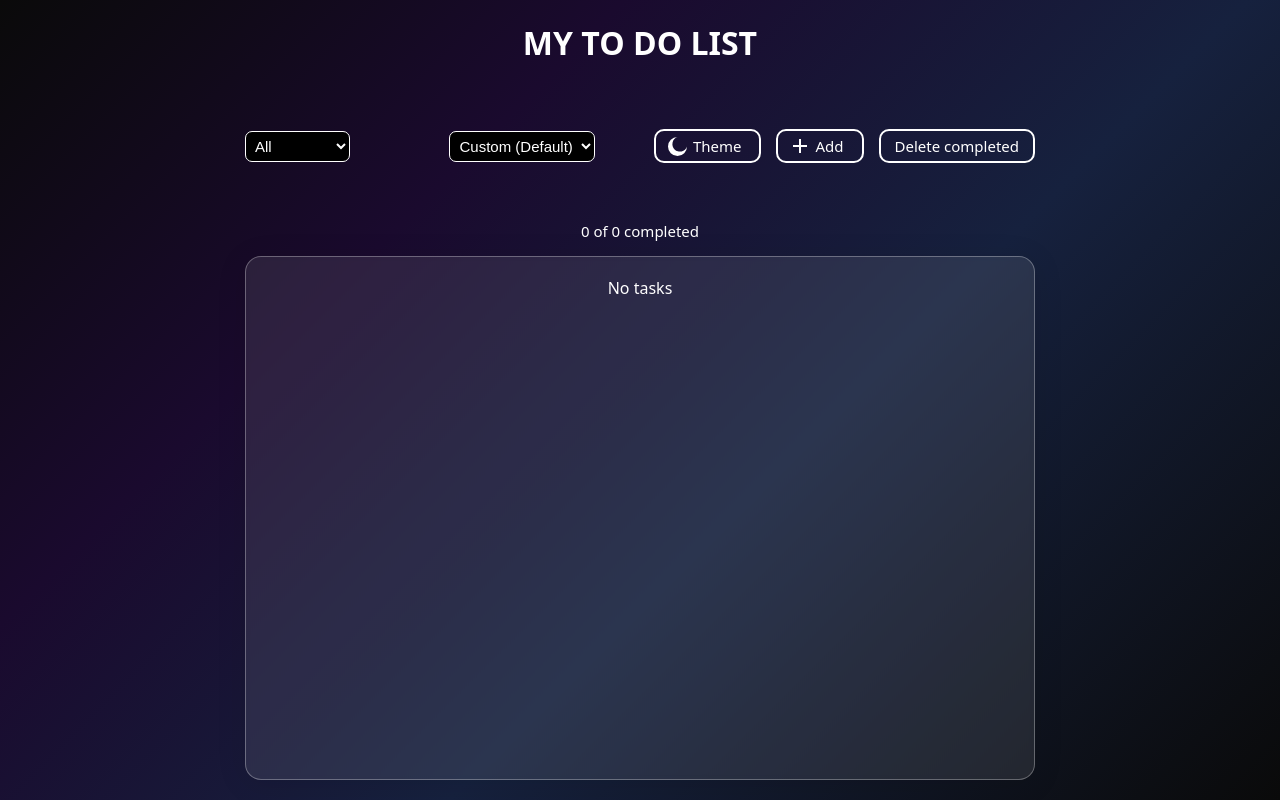
Scenario: Todo app full flow integration › Given an empty app When user creates and completes a task Then filters and counter reflect full flow
Check: the text "No tasks" is shown, box [608, 277, 672, 299]
Click the button "Add" at coordinates (820, 146), box [776, 129, 864, 163]
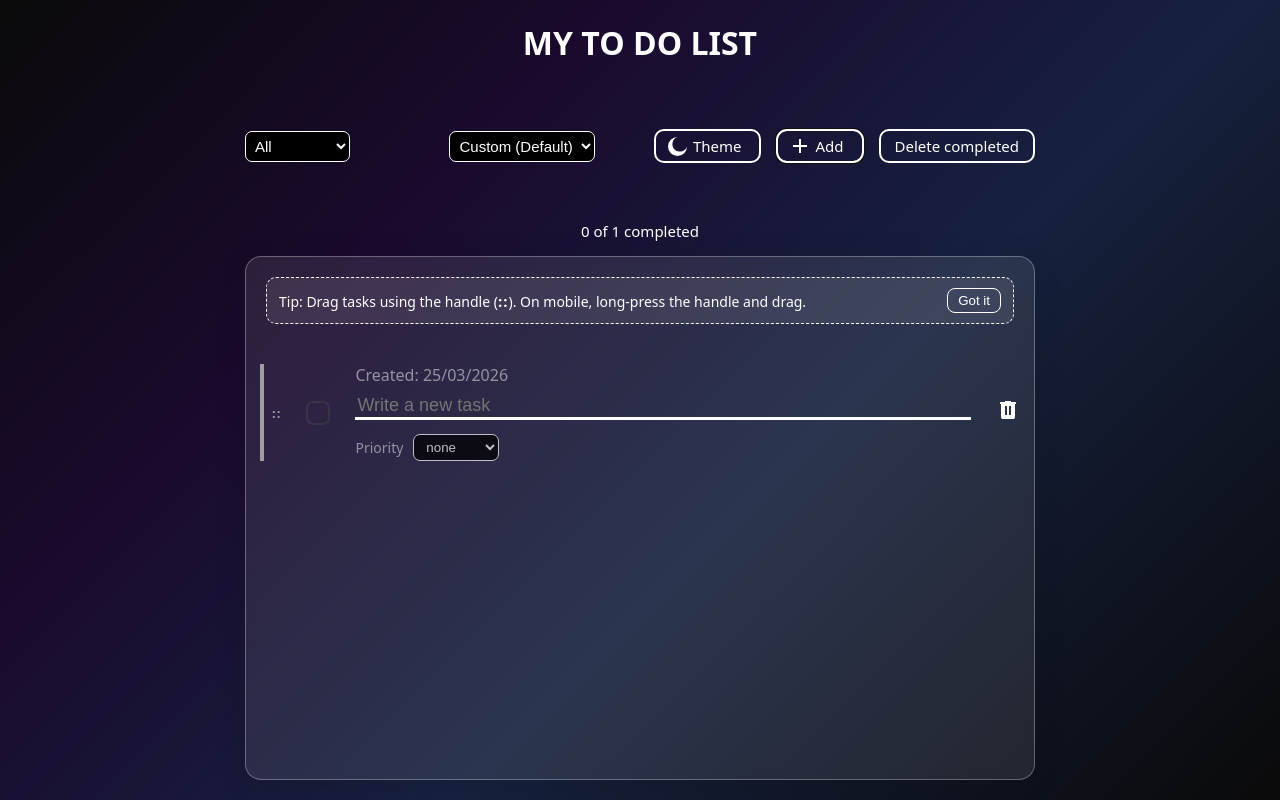
Type "Ship portfolio todo app" into the field with placeholder "Write a new task" at coordinates (663, 407), box [355, 394, 971, 420]
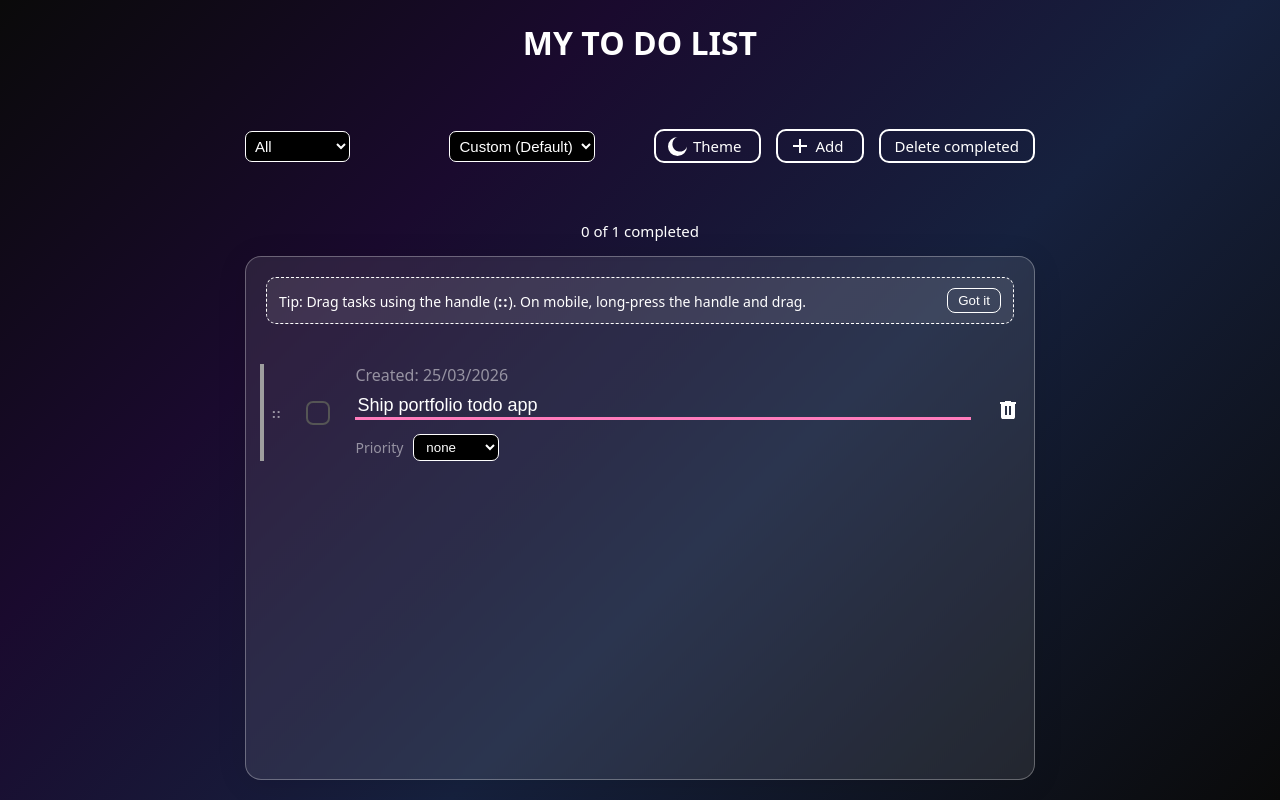
Click the checkbox named "Toggle completion for task: Ship portfolio todo app" at coordinates (318, 413), box [306, 401, 330, 425]
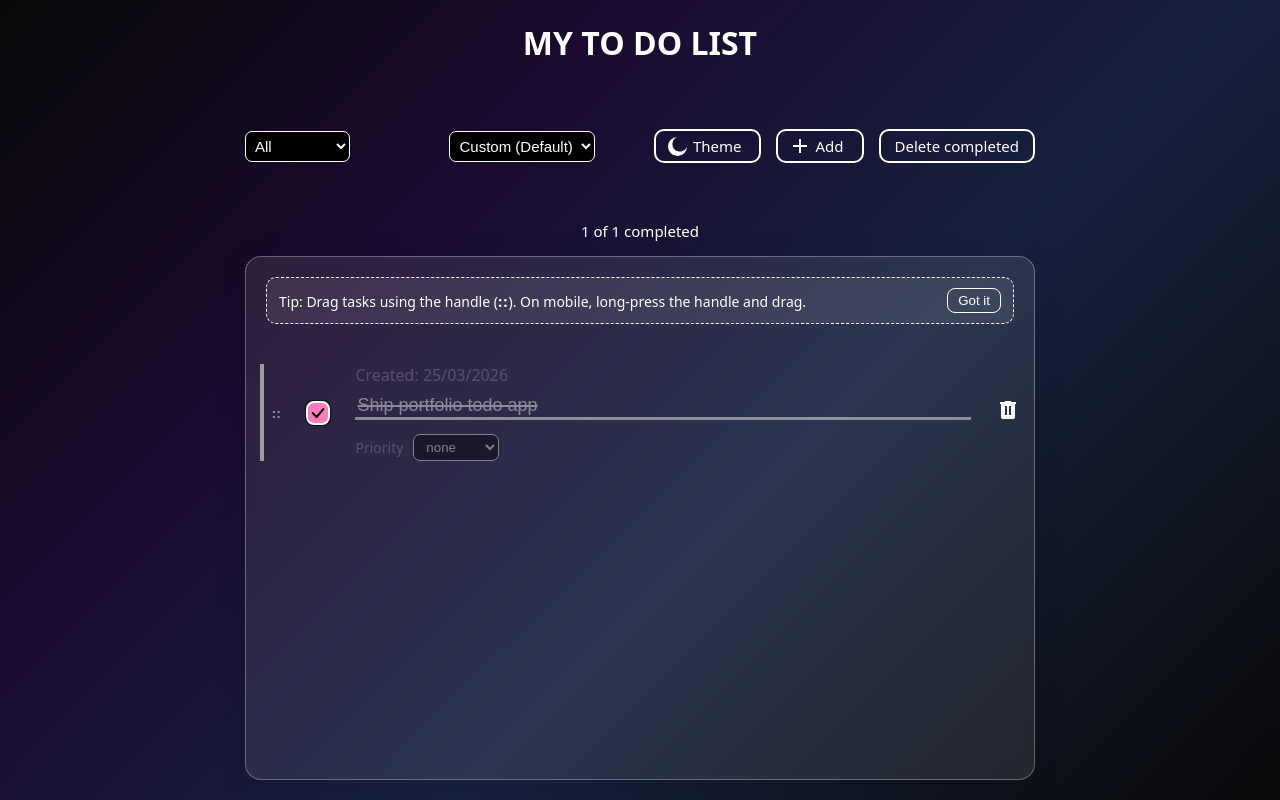
Check: the text "1 of 1 completed" is shown, box [581, 221, 699, 241]
Select "Pending" in the dropdown named "Filter tasks" at coordinates (298, 146), box [245, 131, 350, 162]
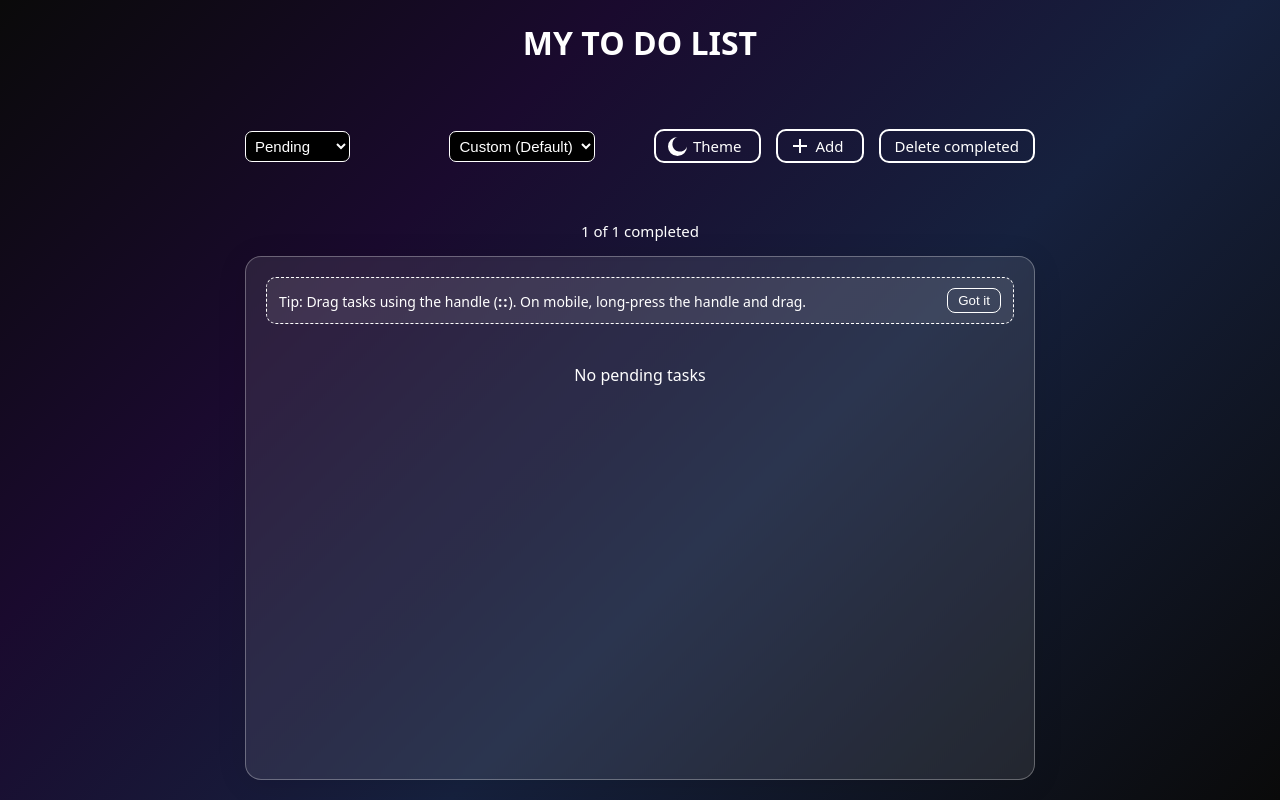
Check: the text "No pending tasks" is shown, box [574, 364, 706, 386]
Select "Completed" in the dropdown named "Filter tasks" at coordinates (298, 146), box [245, 131, 350, 162]
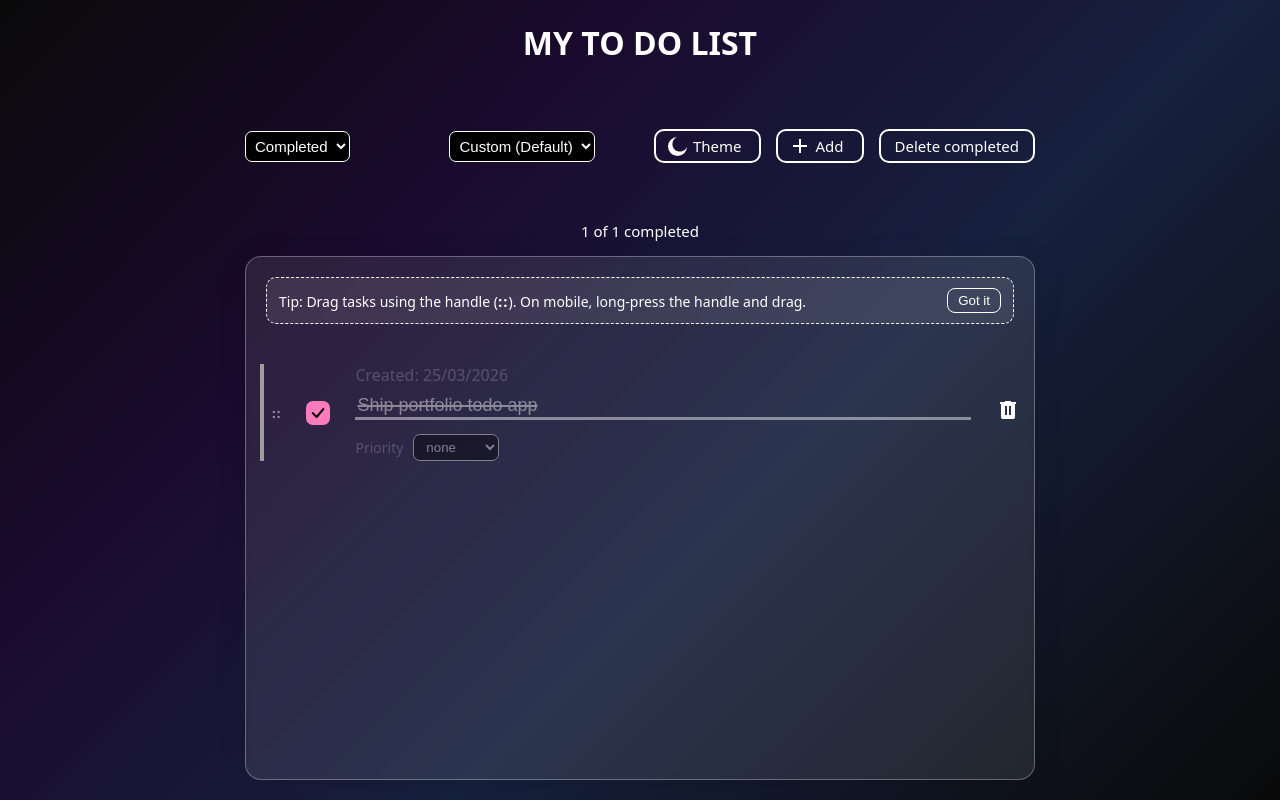
Check: the field showing "Ship portfolio todo app" is shown, box [355, 394, 971, 420]
